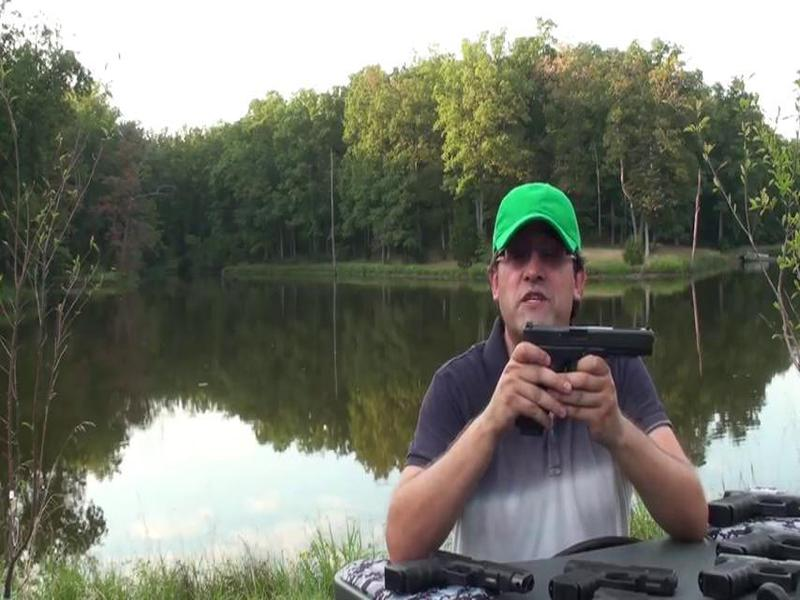Pistola: (510, 324, 667, 454)
